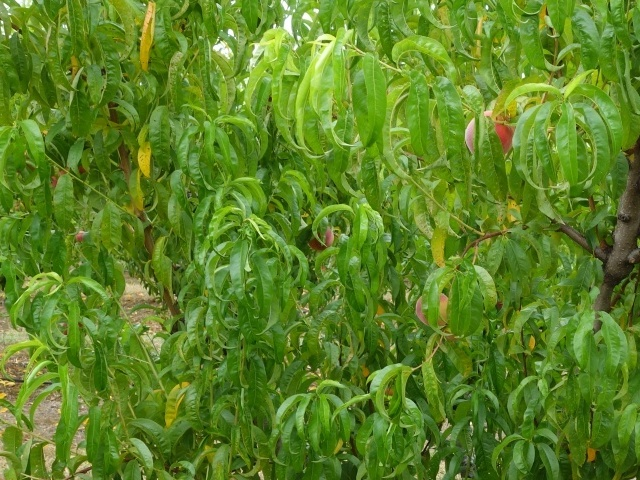peach: (459, 107, 517, 159), (412, 289, 455, 331), (305, 224, 335, 256)
